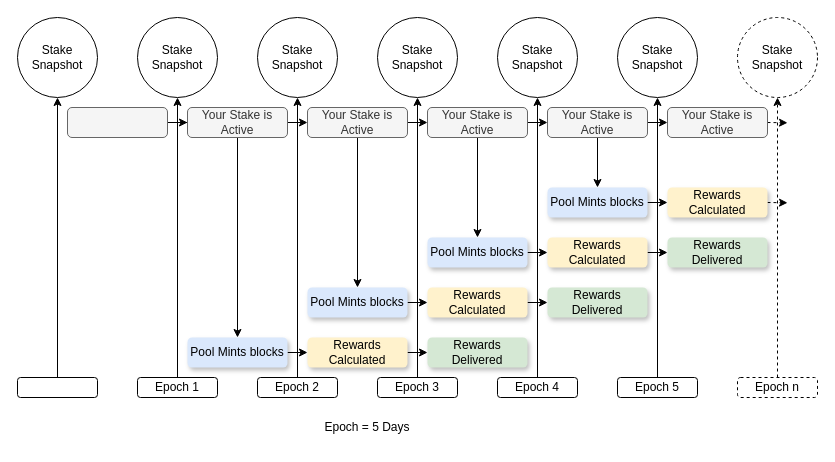
This 835x462 diagram has some shape labels left out. Here are the shapes that lost their labels. From the top down, the centre of each, then its label:
At (x=117, y=122): "You Delegate".
At (x=57, y=387): "Epoch 0".
